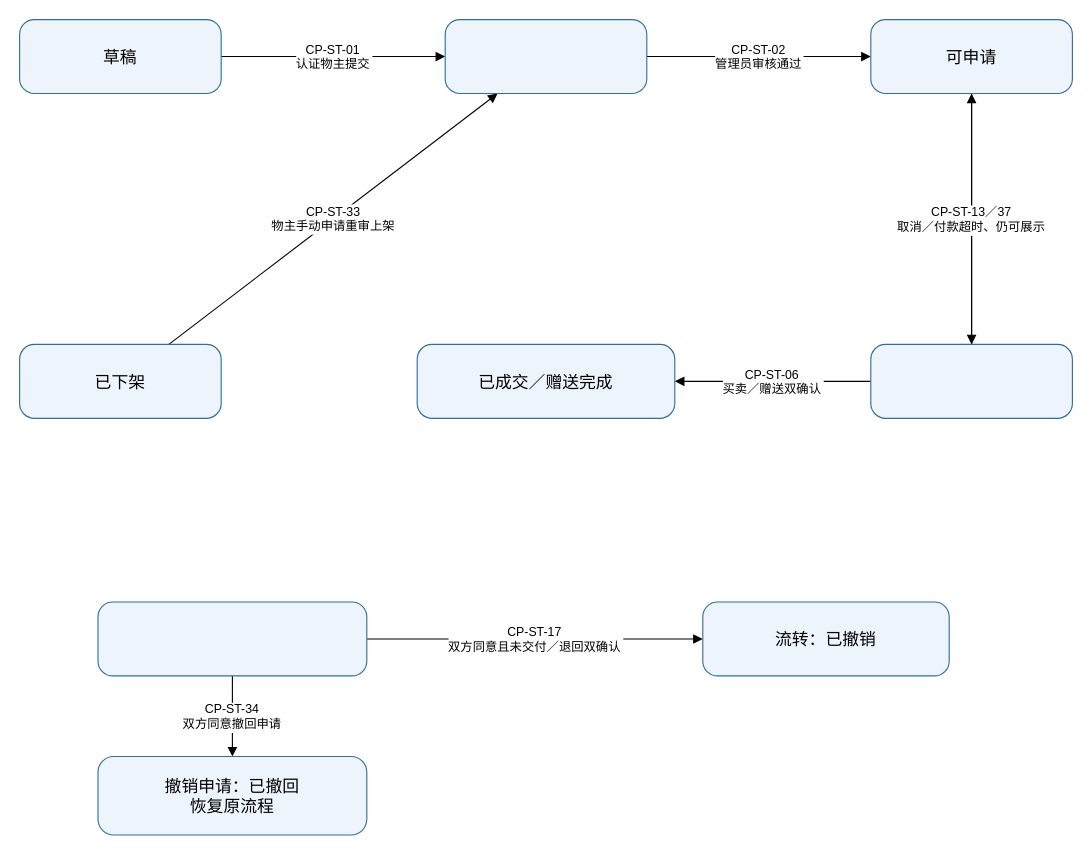
Image size: 1092x855. Some labels were removed from this diagram. The box of each missing label's shape, as (x1, y1, x2, y2) in pixels:
已预留: (870, 343, 1072, 418)
待审核: (444, 18, 647, 94)
流转：撤销协商中: (97, 601, 367, 676)
